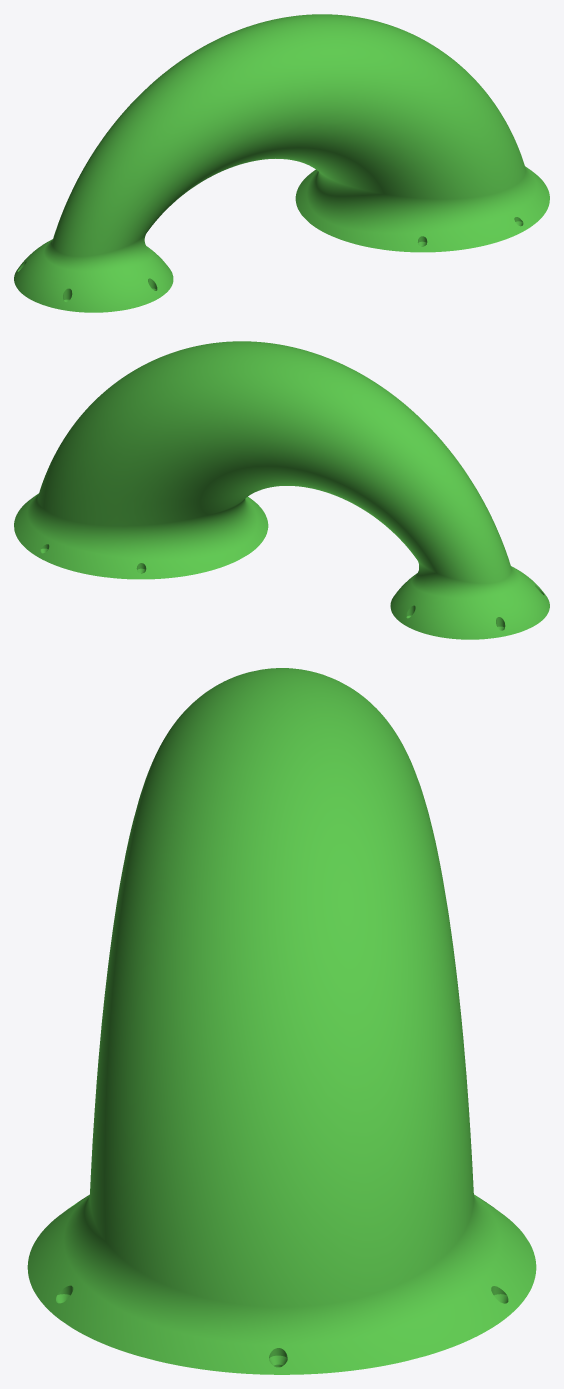
File: hold_phone_fat.glb
3 renders of one model, top to bottom at view 1: azimuth 30°, elevation 25°; view 2: azimuth 150°, elevation 25°; view 3: azimuth 270°, elevation 25°, orthographic. The views are drawn at different scales.
Parts seen in each view (by area): view 1: Object_2; view 2: Object_2; view 3: Object_2.
Boxes of the visible parts, x1,y1,x2,y2 form: Object_2: (14, 14, 549, 312); Object_2: (14, 341, 549, 639); Object_2: (27, 668, 536, 1374).
Bounding box in the file's own units: 434 × 168 × 188.
